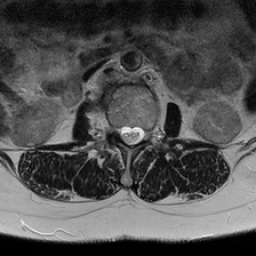CCS_normal: (128, 116, 134, 155)
LFS_normal: (144, 121, 152, 148)
LLS_normal: (134, 117, 144, 149)
RFS_stenosis: (112, 117, 120, 141)
RLS_normal: (120, 117, 128, 147)
